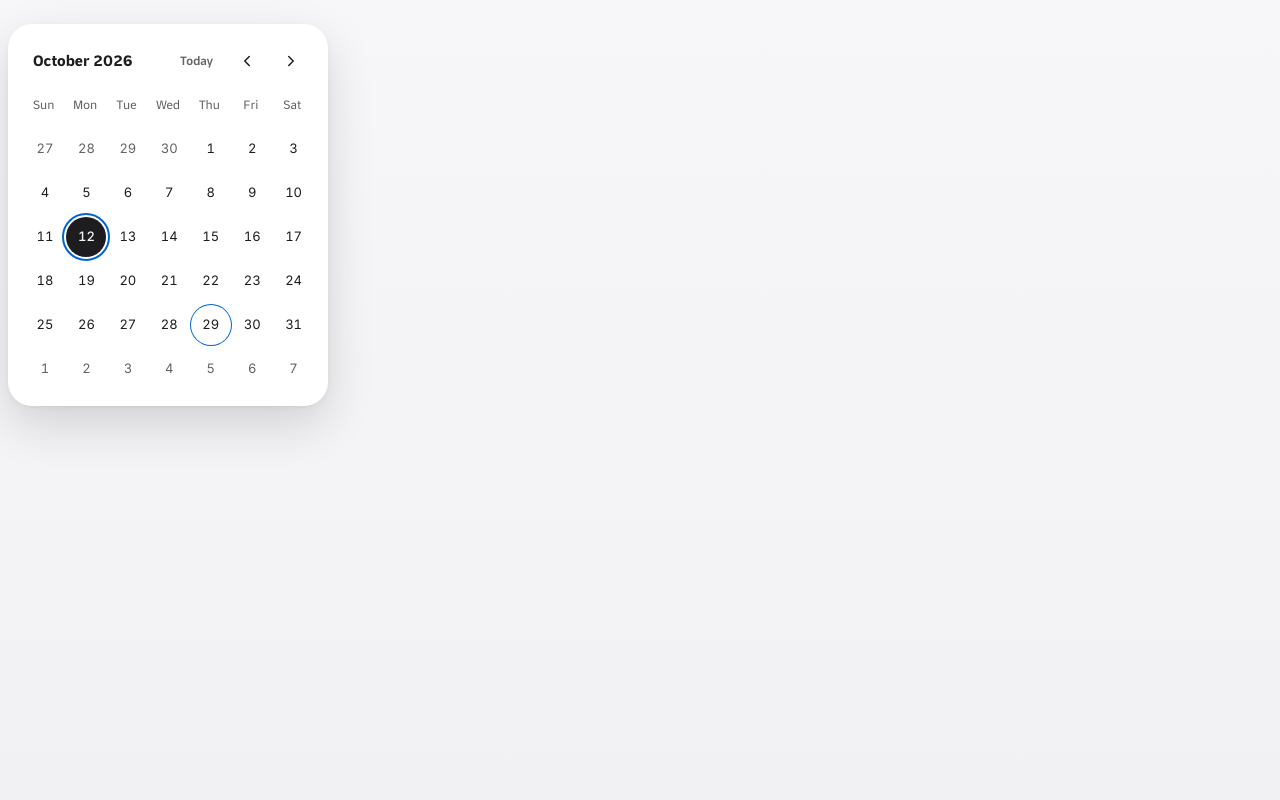
Test: CalendarPopover: the chosen day, the month grid and Today › greys out the months outside the range in the month grid
Click the button with aria-label "Choose a month".
click(96, 61)  # box [25,41,166,81]
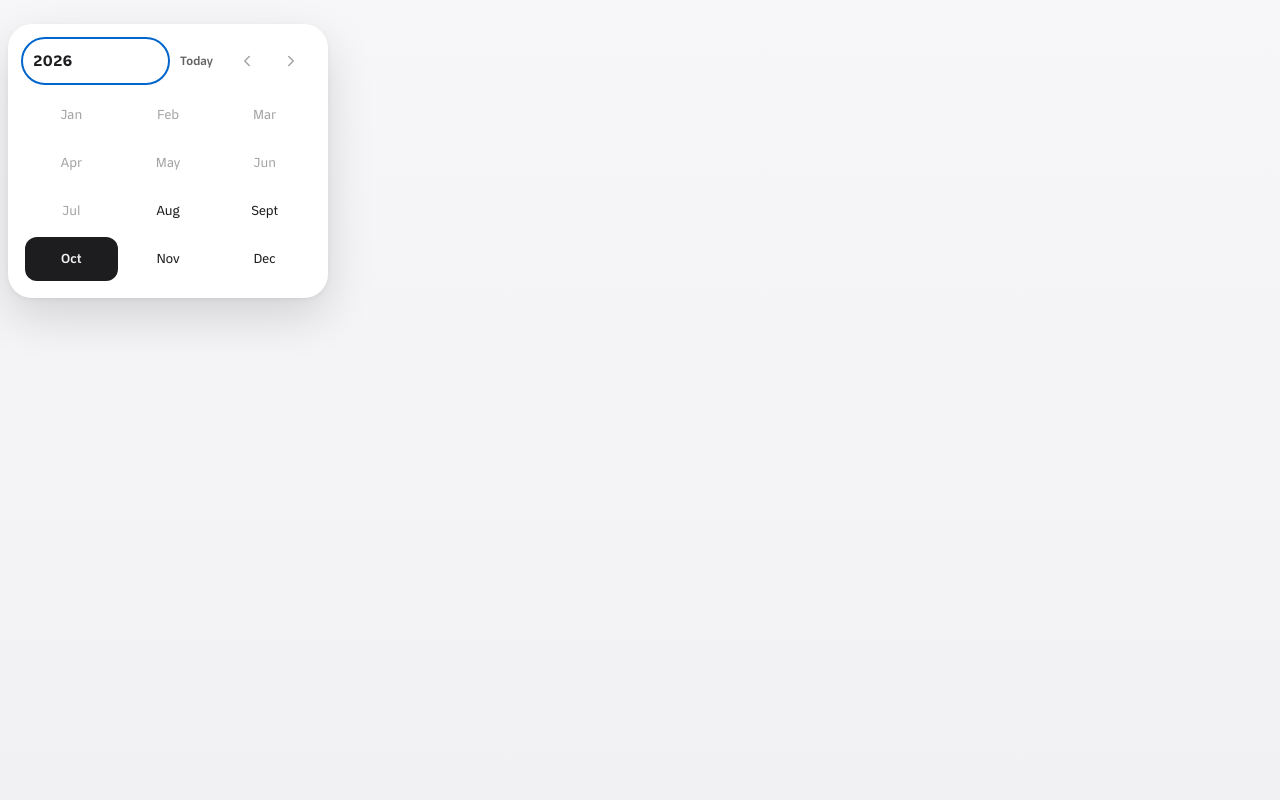
Now the button "Jul" is disabled, box [25,189,118,233]
Now the button "Aug" is enabled, box [122,189,214,233]
Now the button "Dec" is enabled, box [218,237,311,281]
